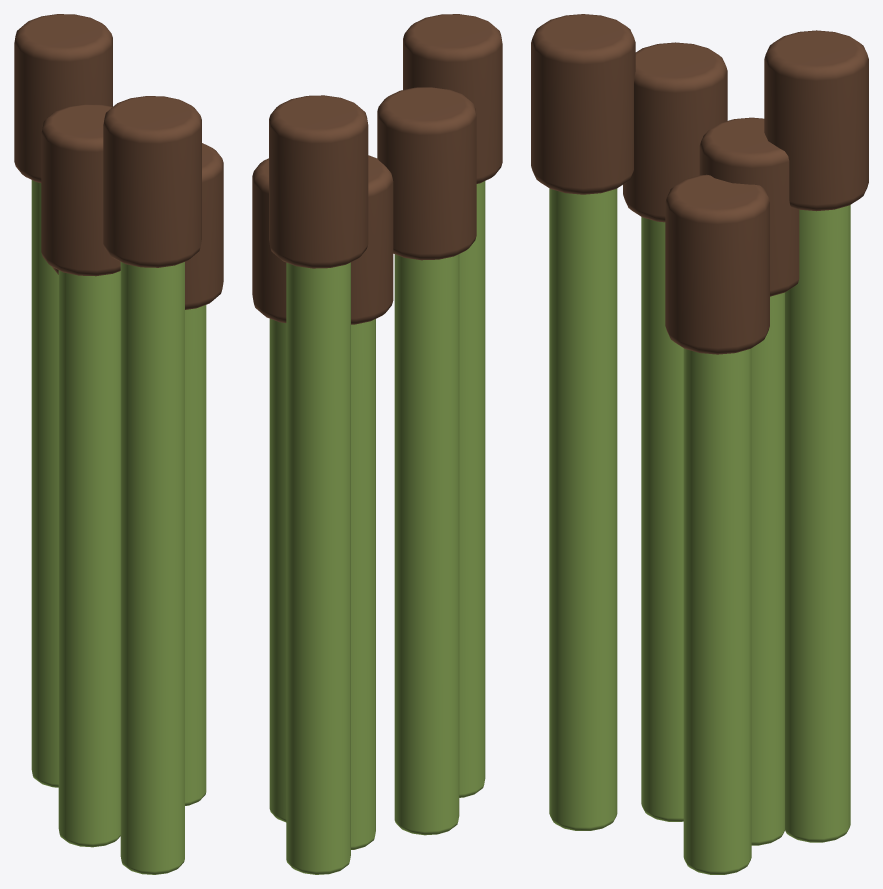
The model's file is prop_reeds.glb.
The picture shows the model from 3 angles, left to right: view 1: azimuth 30°, elevation 25°; view 2: azimuth 150°, elevation 25°; view 3: azimuth 270°, elevation 25°; orthographic projection. The views are drawn at different scales.
Visible parts, largest first — view 1: rds_s1, rds_s3, rds_h1, rds_s0, rds_s2, rds_h0, rds_h3, rds_h2; view 2: rds_s0, rds_s3, rds_h0, rds_s1, rds_h3, rds_s4, rds_h1, rds_s2, rds_h4, rds_h2; view 3: rds_s1, rds_s0, rds_s2, rds_s3, rds_s4, rds_h1, rds_h2, rds_h0, rds_h3, rds_h4.
Boxes of the visible parts, left/top/right/bottom form: rds_s1: left=120, top=262, right=184, bottom=874; rds_s3: left=58, top=270, right=120, bottom=847; rds_h1: left=103, top=96, right=201, bottom=267; rds_s0: left=31, top=180, right=58, bottom=787; rds_s2: left=185, top=305, right=206, bottom=805; rds_h0: left=14, top=14, right=112, bottom=182; rds_h3: left=41, top=104, right=120, bottom=276; rds_h2: left=185, top=143, right=223, bottom=309; rds_s0: left=286, top=262, right=350, bottom=874; rds_s3: left=394, top=254, right=459, bottom=835; rds_h0: left=269, top=95, right=368, bottom=268; rds_s1: left=459, top=181, right=485, bottom=797; rds_h3: left=377, top=87, right=476, bottom=260; rds_s4: left=351, top=319, right=375, bottom=849; rds_h1: left=403, top=14, right=502, bottom=183; rds_s2: left=269, top=319, right=286, bottom=822; rds_h4: left=351, top=155, right=393, bottom=324; rds_h2: left=252, top=158, right=286, bottom=322; rds_s1: left=549, top=188, right=617, bottom=830; rds_s0: left=785, top=205, right=850, bottom=842; rds_s2: left=683, top=348, right=751, bottom=874; rds_s3: left=641, top=217, right=683, bottom=821; rds_s4: left=751, top=292, right=784, bottom=845; rds_h1: left=531, top=14, right=635, bottom=194; rds_h2: left=665, top=174, right=769, bottom=354; rds_h0: left=764, top=30, right=868, bottom=211; rds_h3: left=623, top=42, right=727, bottom=222; rds_h4: left=699, top=117, right=799, bottom=296.
Size of the model in its own units: 0.2026 by 0.7641 by 0.2972.
